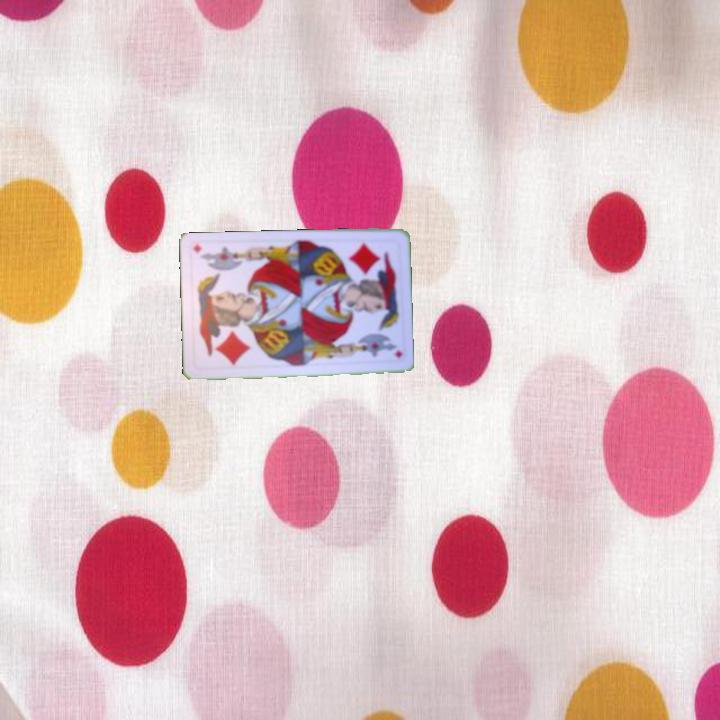d_j.png: (342, 236, 402, 305), (191, 302, 250, 370)
